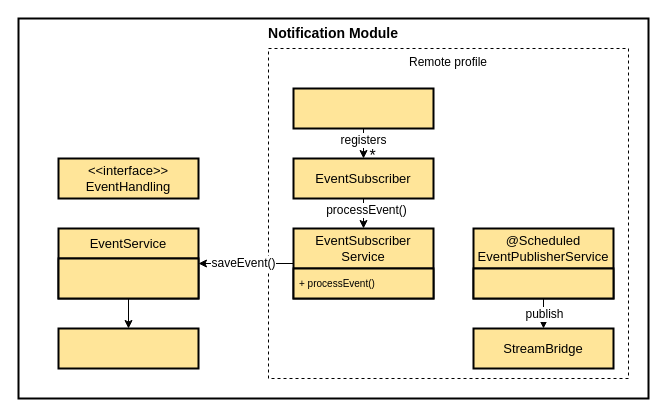
The diagram is 666 pixels wide and 416 high, and some of its shapes have lost their labels. Each missing label, with the centre of its shape:
"+ publishPendingEvents()" goes at (543,283).
"+ saveEvent() + getSubscribedEvents()" goes at (128,278).
"Event Repository" goes at (128,348).
"EventSubscriber Registrar" goes at (363,108).
